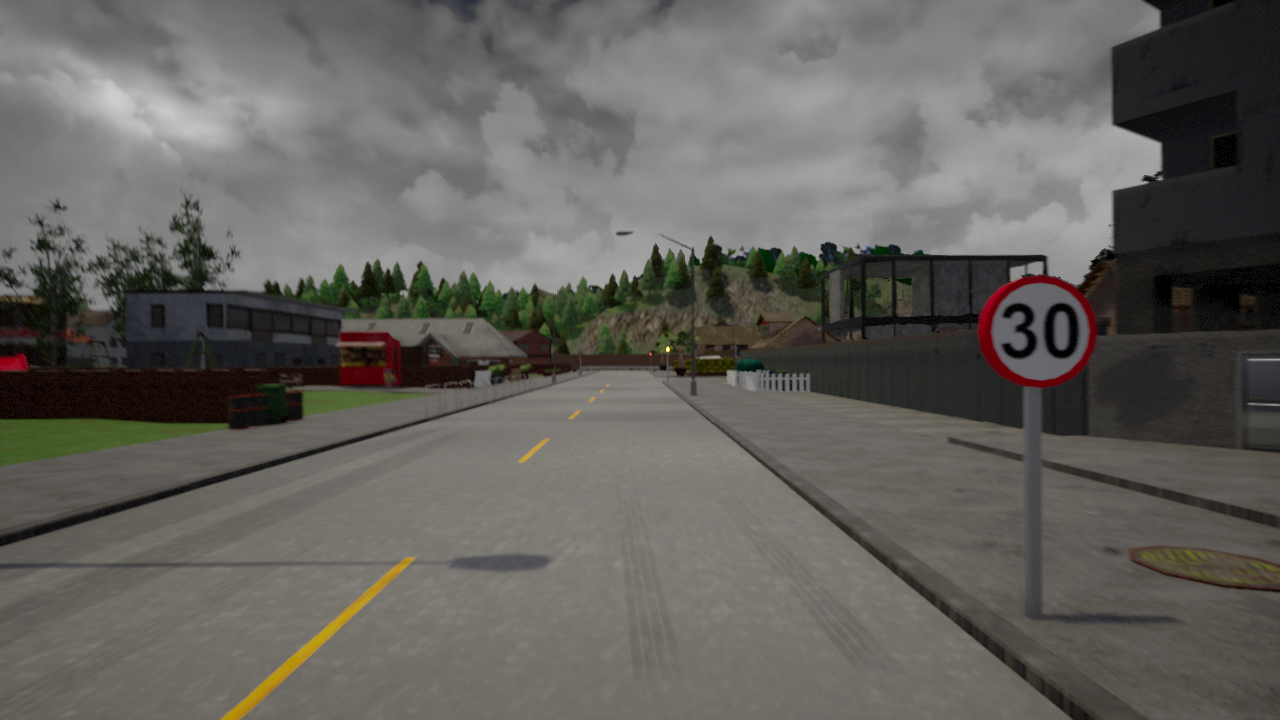yellow: (664, 342, 671, 355)
